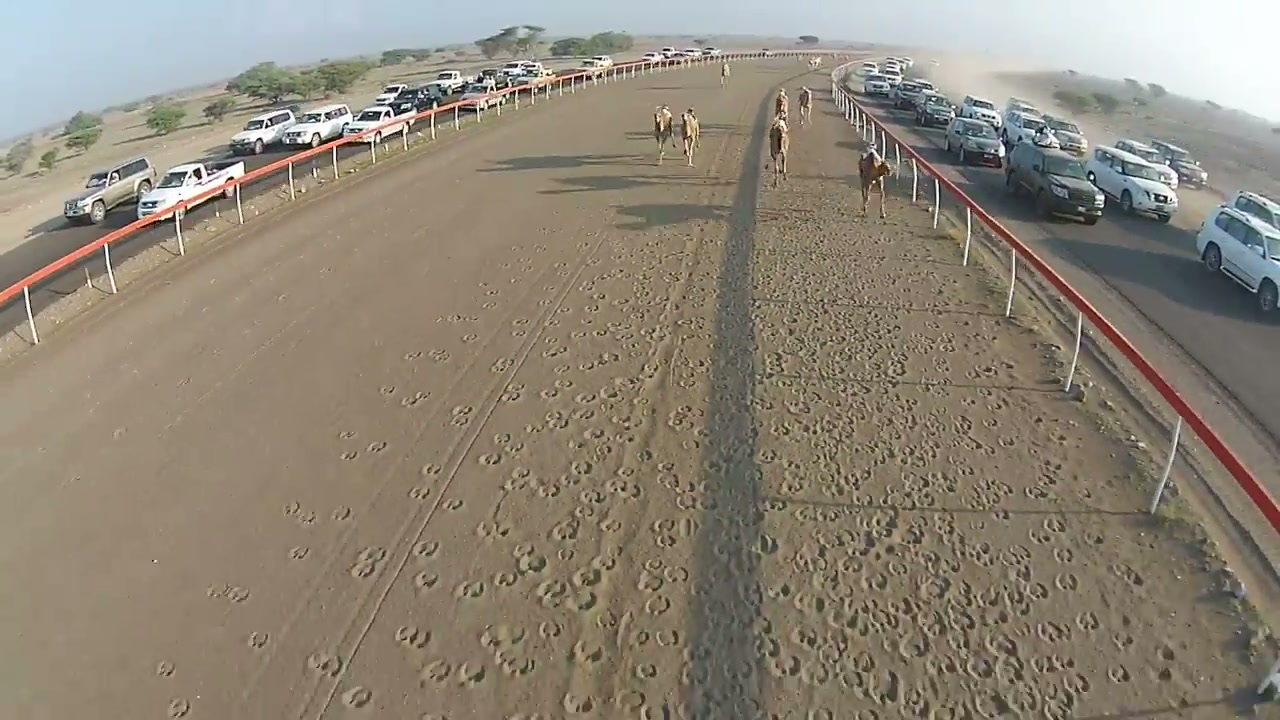animal_foot_print: (331, 191, 1251, 719), (148, 478, 273, 606), (208, 585, 249, 602), (169, 698, 189, 719), (248, 632, 268, 649), (156, 661, 175, 676)
